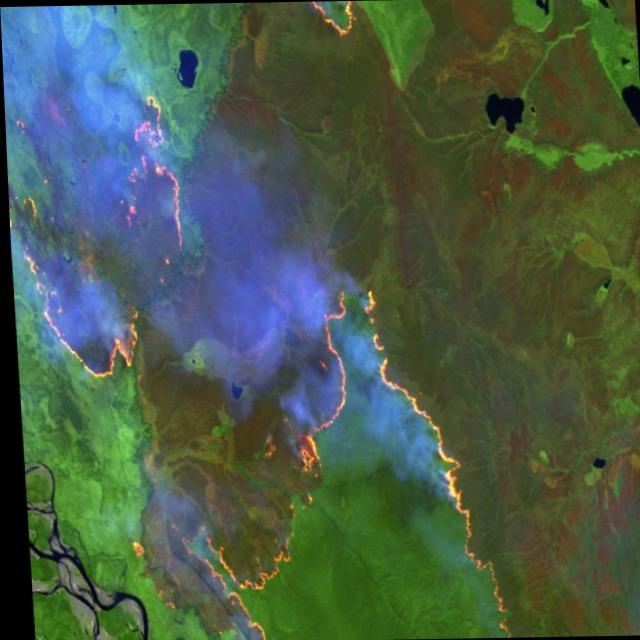fire: (0, 0, 513, 640)
